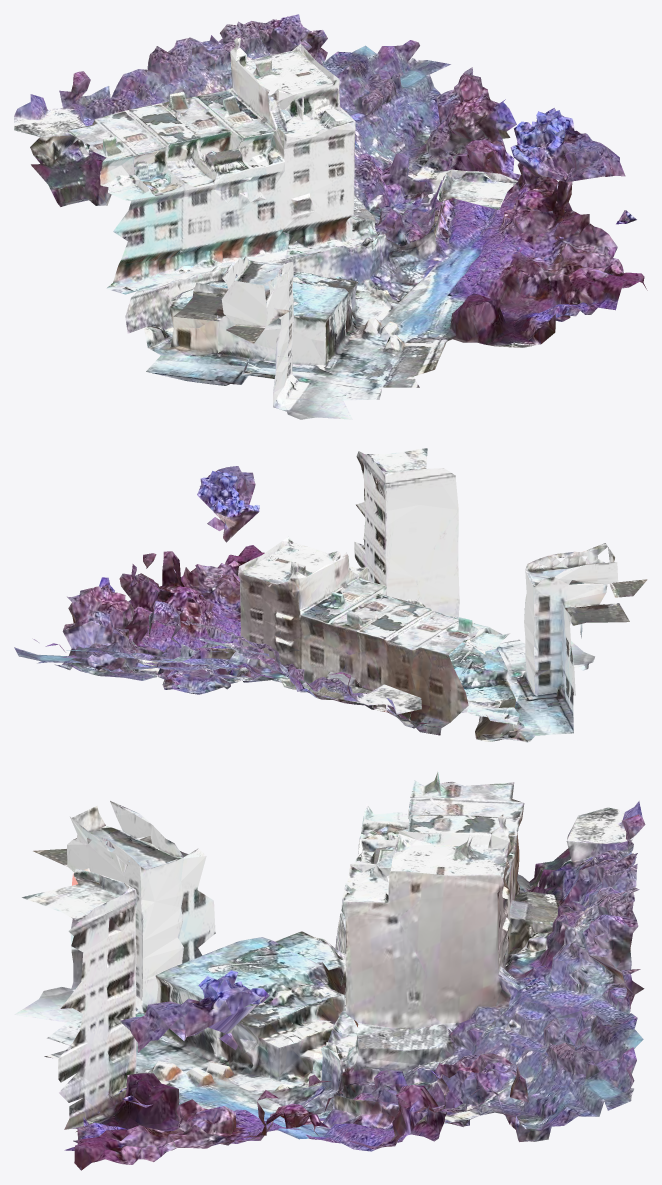
The model's file is Tile_+012_+018_L19_000033.glb.
3 renders of one model, top to bottom at view 1: azimuth 30°, elevation 25°; view 2: azimuth 150°, elevation 25°; view 3: azimuth 270°, elevation 25°, orthographic. The views are drawn at different scales.
Visible parts, largest first — view 1: rtc; view 2: rtc; view 3: rtc.
Part boxes in pixels (<box>): rtc: <box>14,14,647,419</box>; rtc: <box>14,448,647,742</box>; rtc: <box>14,772,645,1170</box>.
Size of the model in its own units: 59.44 by 26.21 by 58.15.
1 material, 1 textured.
